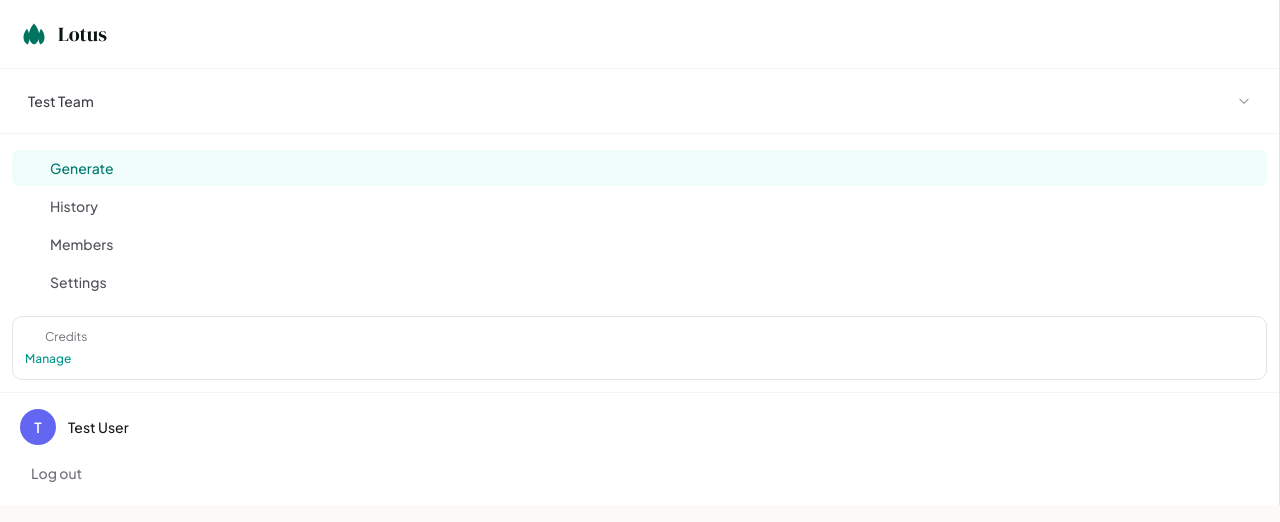
it: Sidebar › single team user › shows dropdown with Create new team option when user has exactly 1 team
Click the button "Test Team" at (61, 101), box [20,85,1259,117]
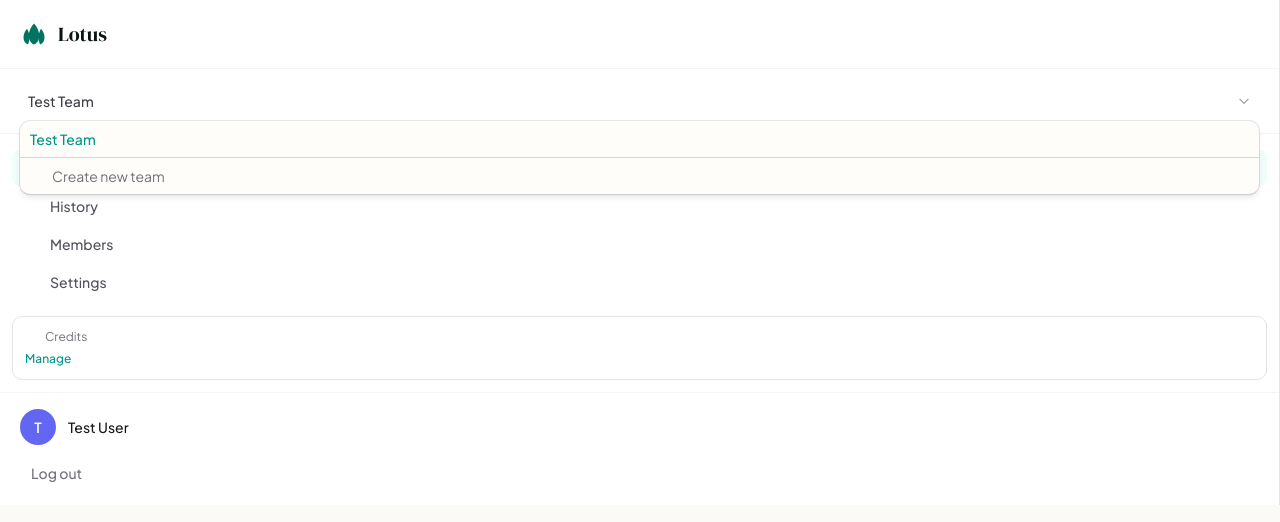
Result: the menu item "Test Team" is shown at [30,130,96,148]
Result: the menu item "Create new team" is shown at [52,167,165,185]
